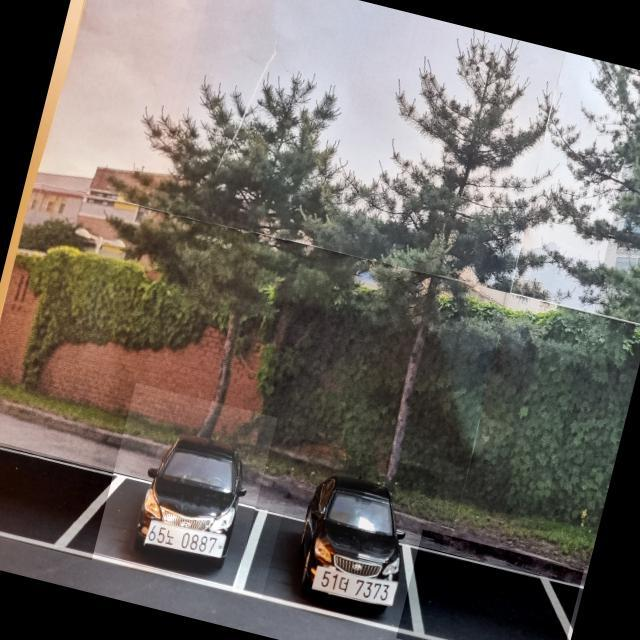empty: (396, 529, 584, 640), (0, 433, 113, 560)
occupied: (93, 382, 277, 588), (262, 438, 440, 633)
